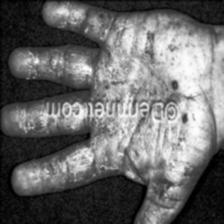Non-Cancerous Skin Condition: (94, 120, 191, 178), (111, 16, 156, 68), (94, 60, 110, 96), (17, 108, 27, 136), (182, 111, 188, 124), (172, 78, 176, 90)
